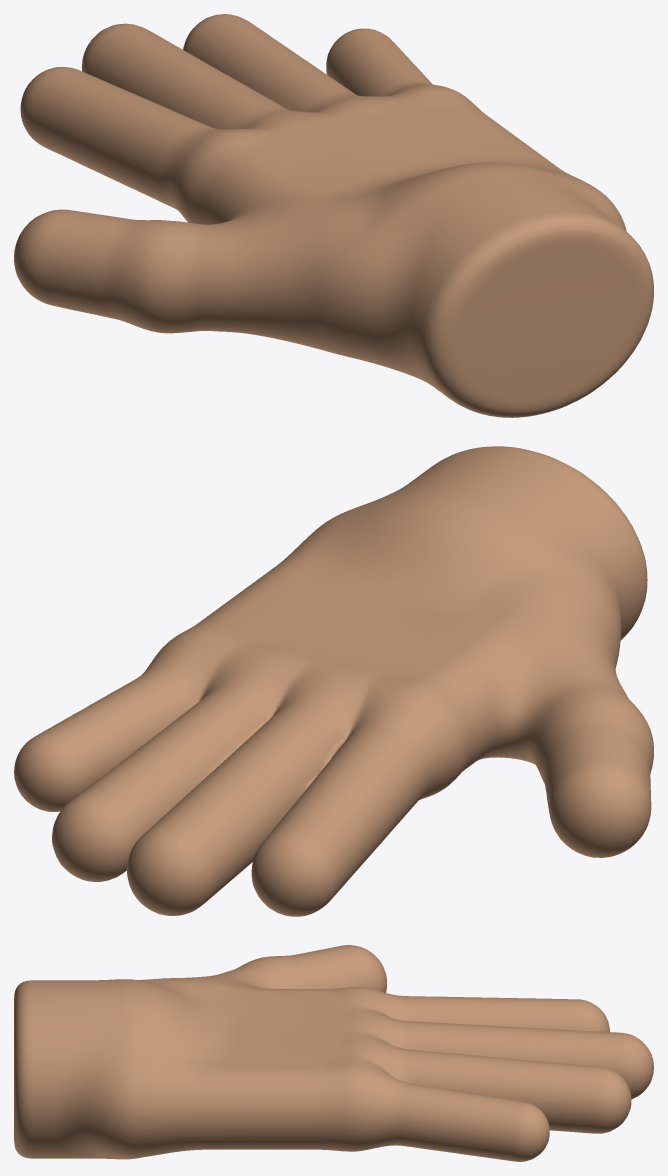
The model's file is hand.glb.
3 renders of one model, top to bottom at view 1: azimuth 30°, elevation 25°; view 2: azimuth 150°, elevation 25°; view 3: azimuth 270°, elevation 25°, orthographic. The views are drawn at different scales.
Parts seen in each view (by area): view 1: hand; view 2: hand; view 3: hand.
Boxes of the visible parts, x1,y1,x2,y2 form: hand: (14, 14, 653, 417); hand: (14, 446, 653, 916); hand: (14, 945, 653, 1161).
Bounding box in the file's own units: 1.24 × 0.4802 × 1.8.
